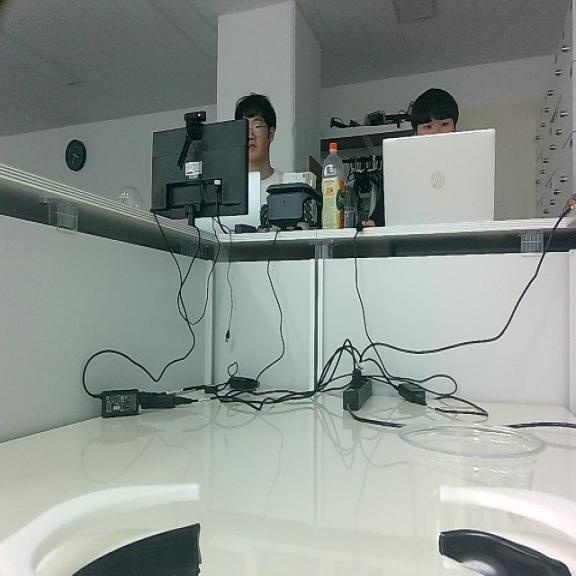Plastik: (397, 420, 547, 576)
